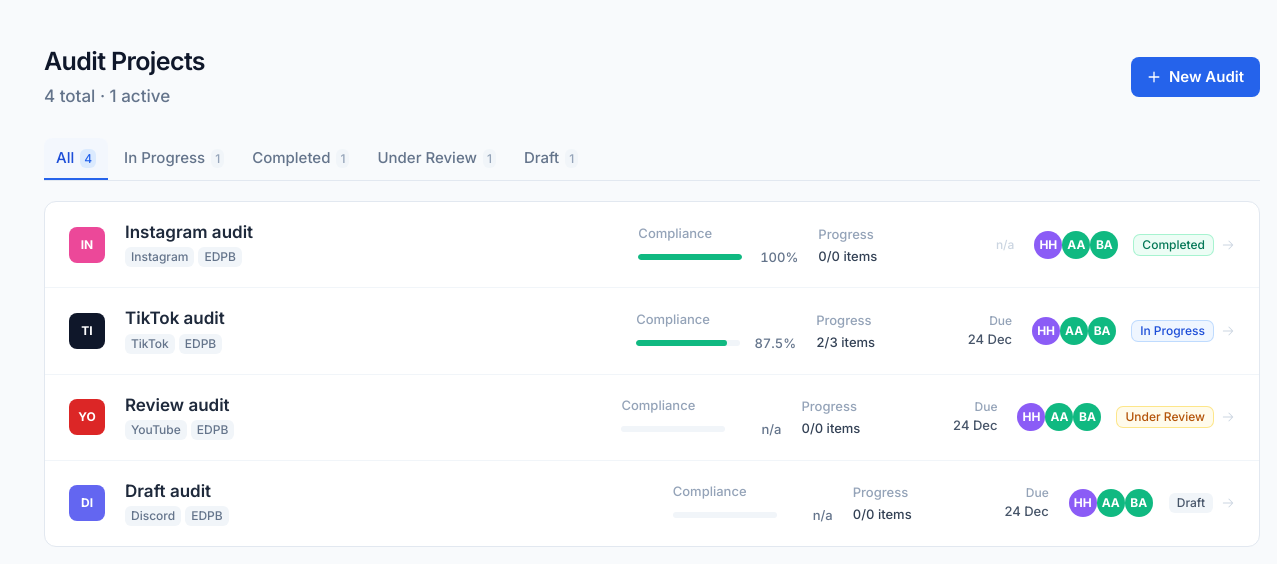
ProjectsPage › shows the New Audit button to a head auditor only
Step 1. Click the link "New Audit" → (1195, 77), box [1131,57,1260,97]
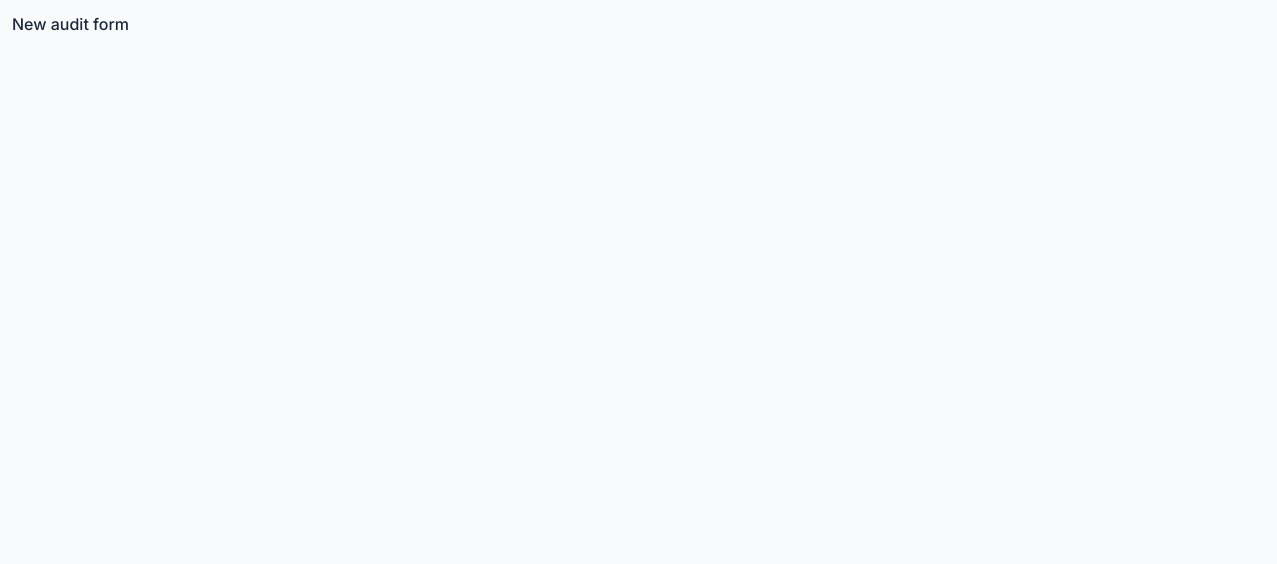
Now the text "New audit form" is shown, box [12,14,129,34]
